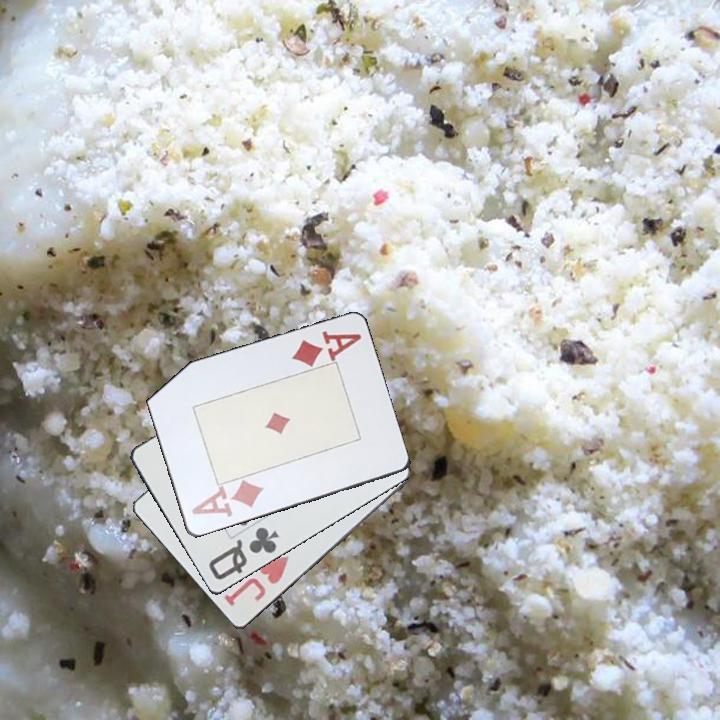Ad: (188, 477, 266, 520), (287, 328, 364, 369)
Jh: (220, 552, 292, 610)
Qc: (205, 524, 282, 583)
